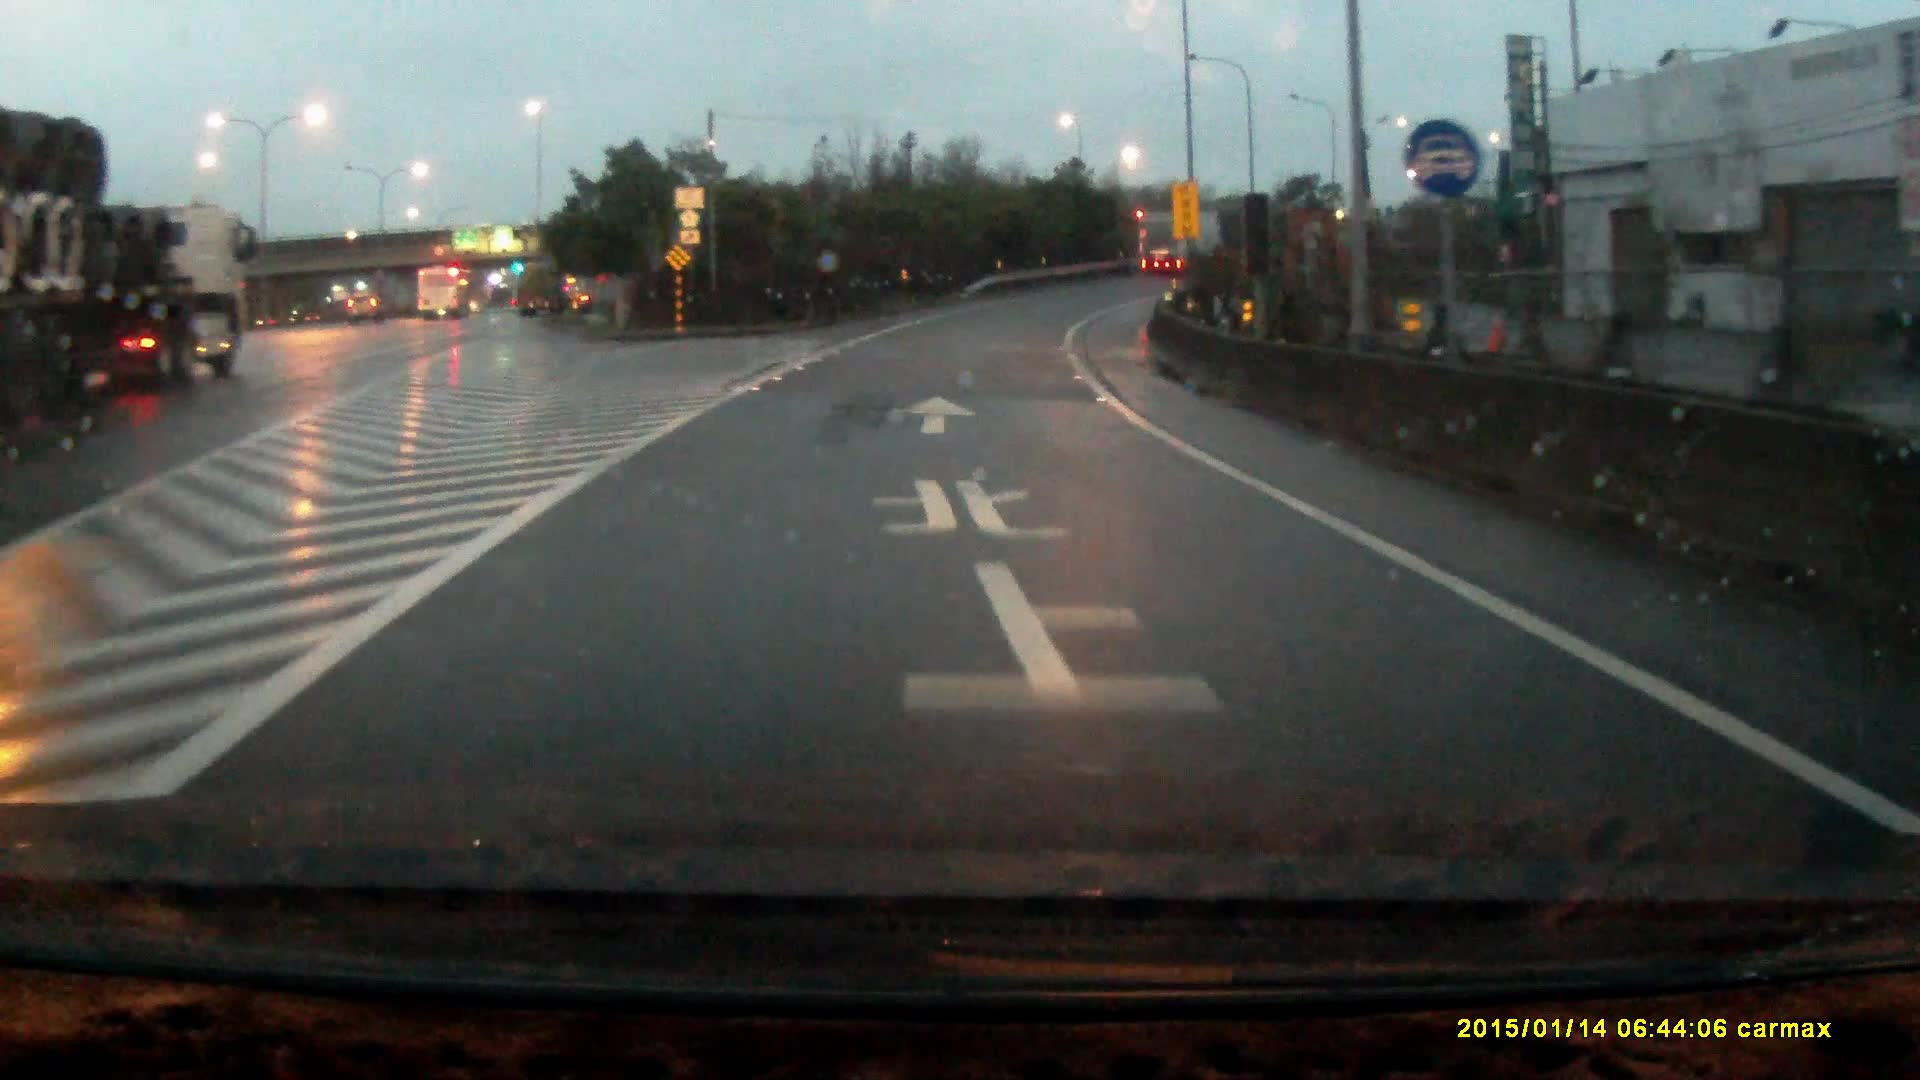vehicle: (1, 108, 256, 407), (1135, 212, 1230, 278), (417, 265, 476, 320), (345, 291, 382, 323)
